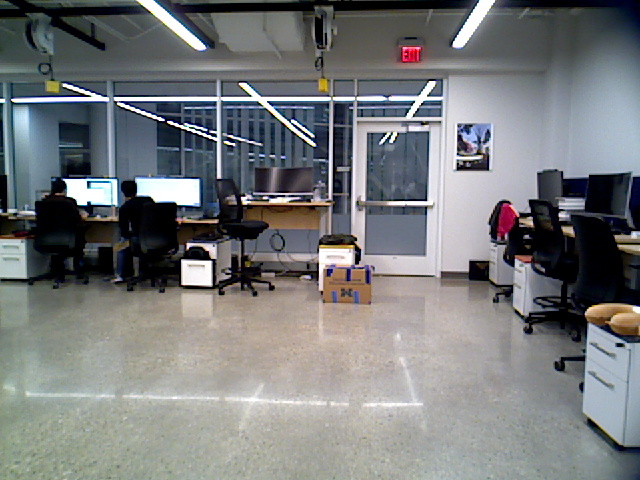painting3: (452, 122, 493, 171)
